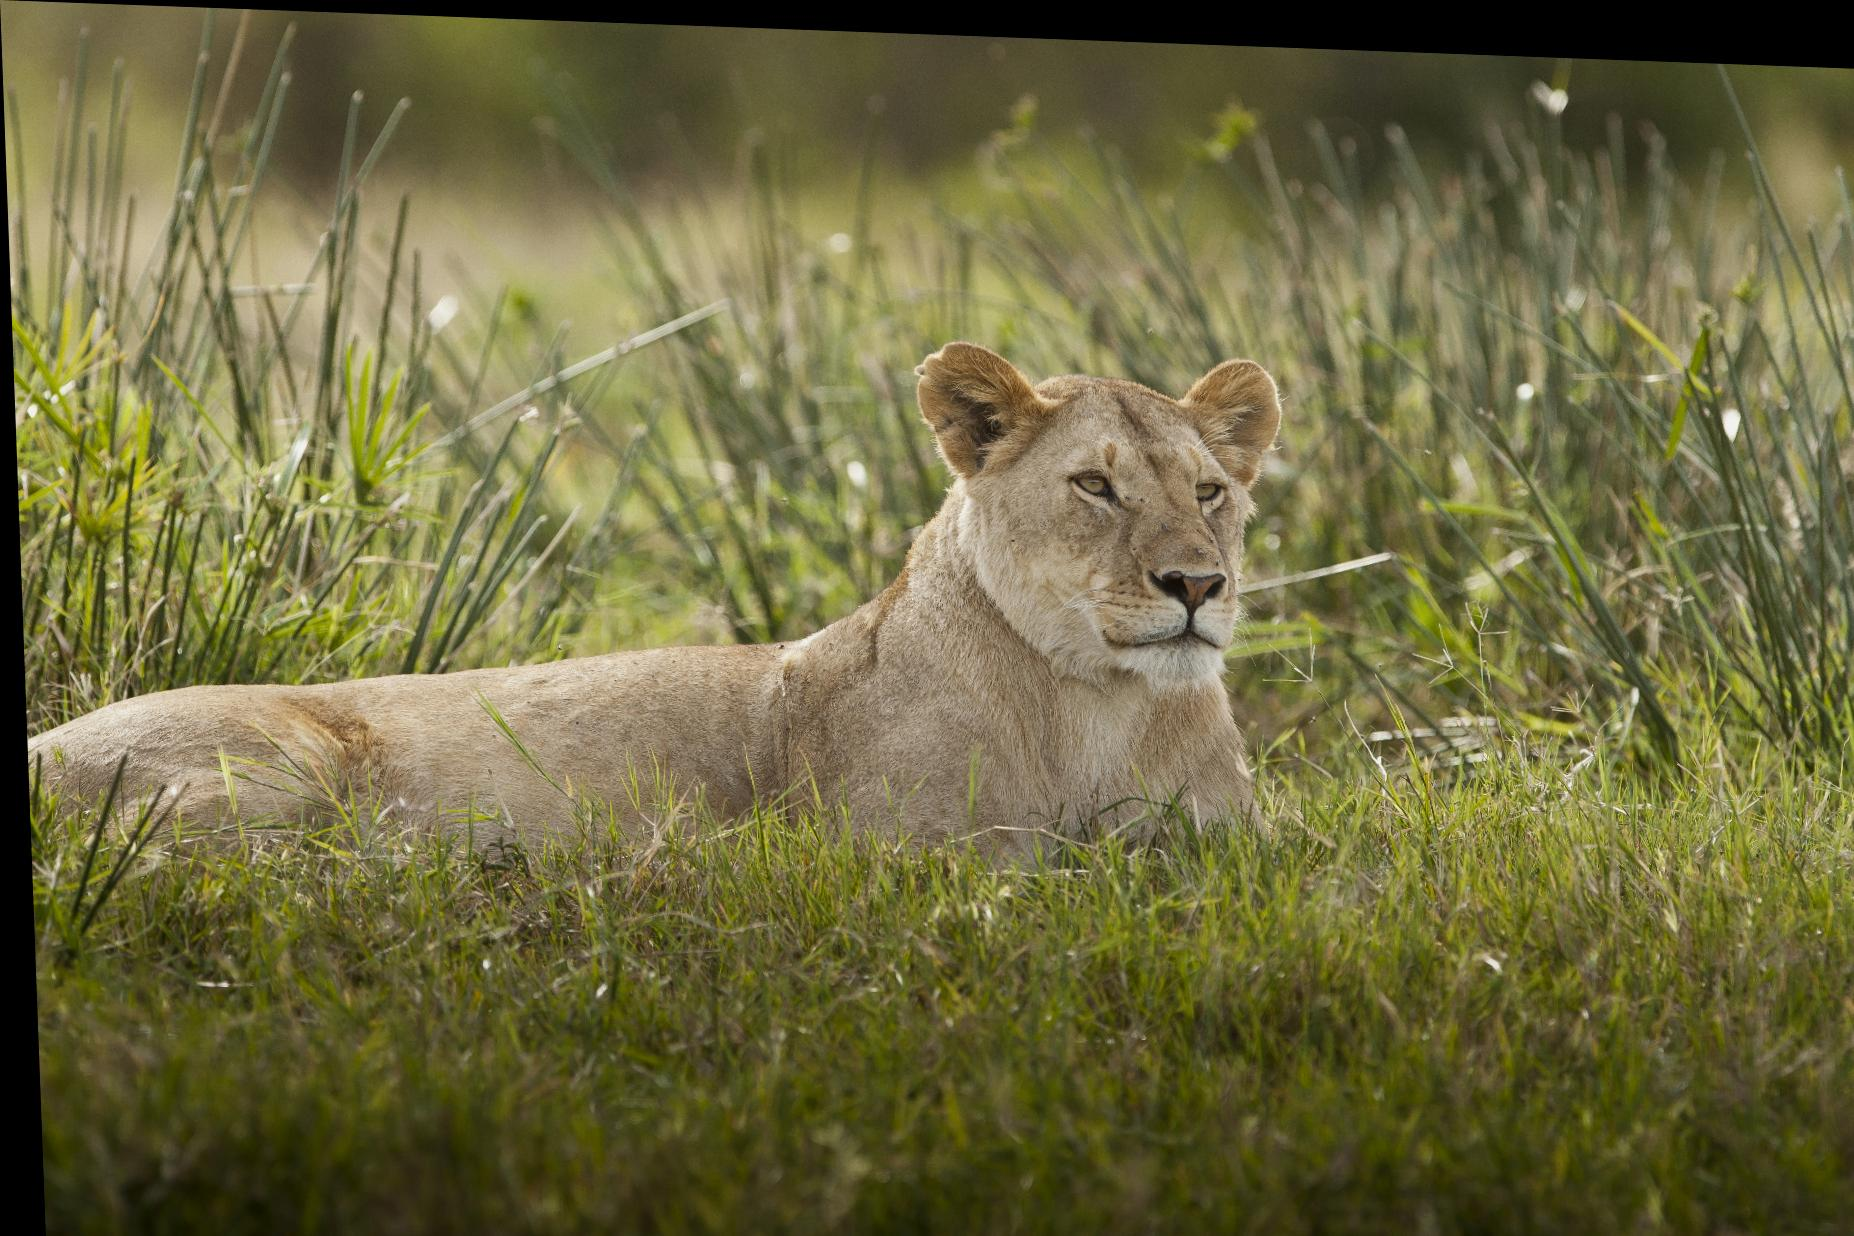lioness: (8, 302, 1309, 957)
